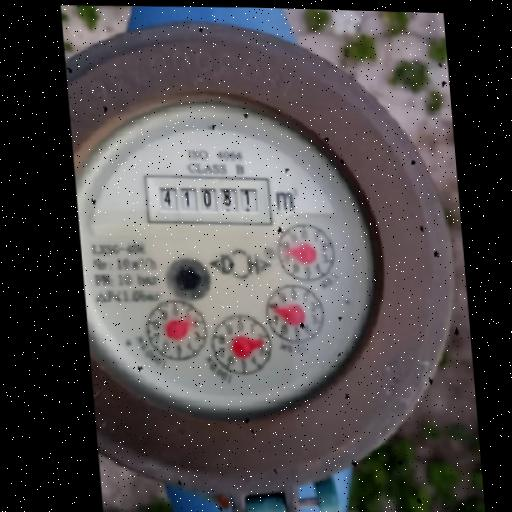0: (202, 189, 218, 211)
1: (182, 189, 198, 211), (242, 190, 258, 211)
4: (161, 188, 177, 212)
8: (223, 189, 237, 211)
border_water_meter_number: (142, 172, 274, 227)
